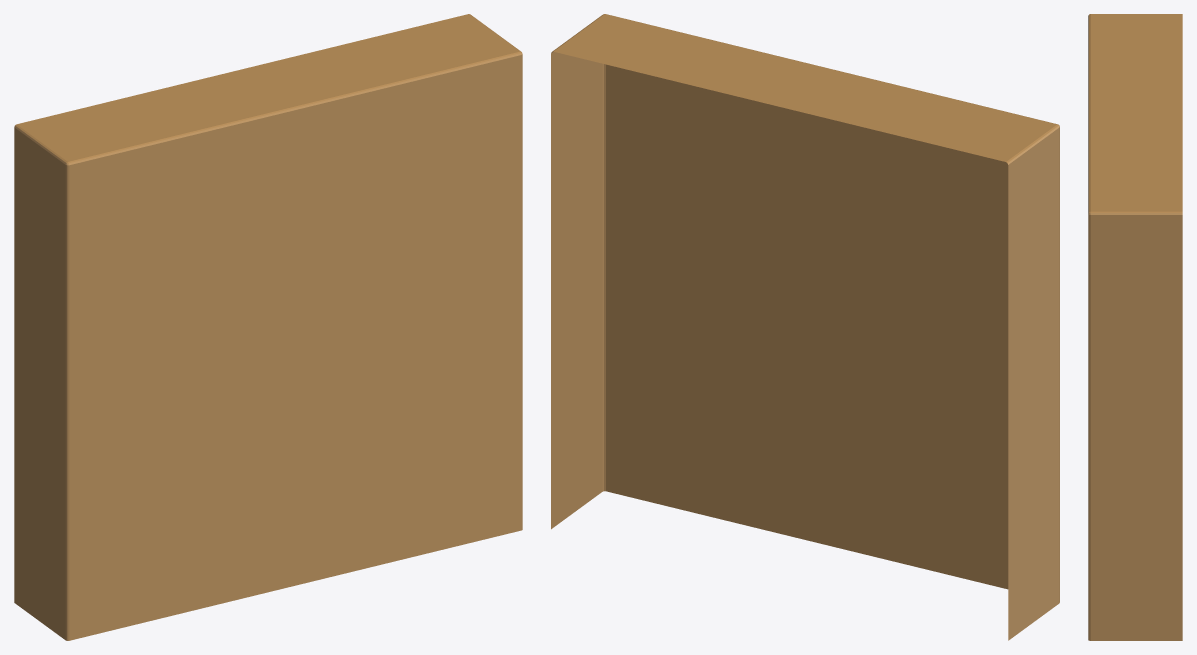
Rendered from WallSandstone.fbx.
The picture shows the model from 3 angles, left to right: view 1: azimuth 30°, elevation 25°; view 2: azimuth 150°, elevation 25°; view 3: azimuth 270°, elevation 25°; orthographic projection. The views are drawn at different scales.
Visible parts, largest first — view 1: WallSandstone; view 2: WallSandstone; view 3: WallSandstone.
Boxes of the visible parts, bbox=[...] form: WallSandstone: bbox=[14, 14, 522, 640]; WallSandstone: bbox=[551, 14, 1059, 640]; WallSandstone: bbox=[1088, 14, 1182, 640].
Size of what is drawn, in the model's own units: 1 by 1 by 0.2.
